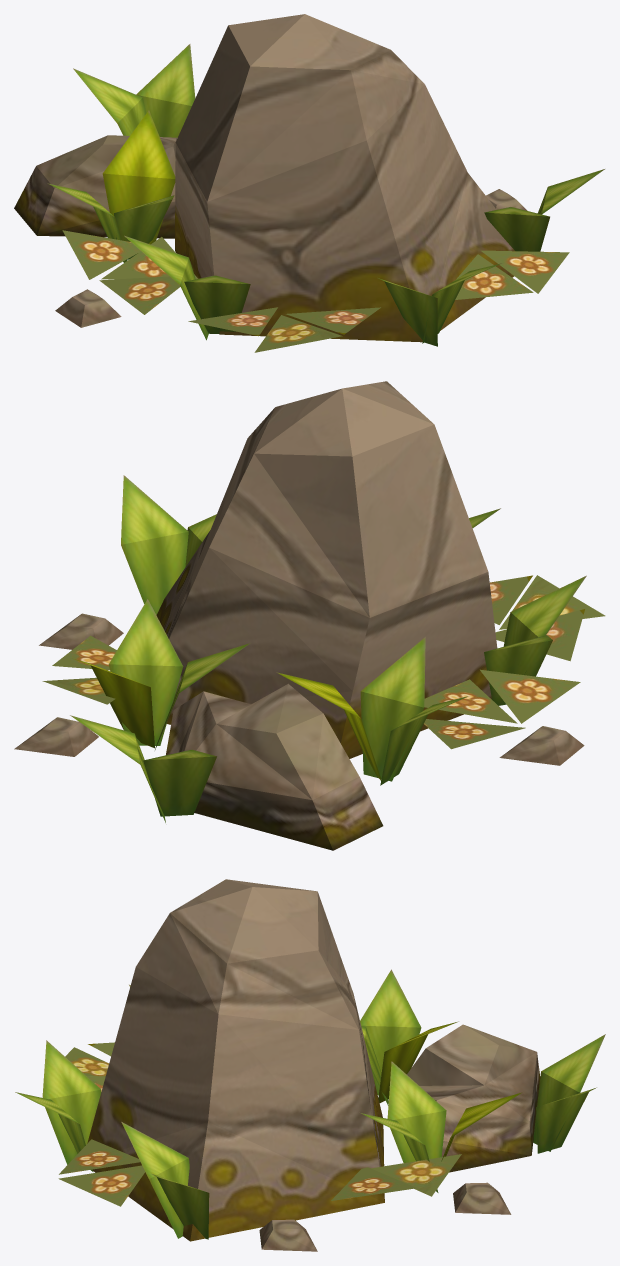
File: batu.fbx
The picture shows the model from 3 angles, top to bottom: view 1: azimuth 30°, elevation 25°; view 2: azimuth 150°, elevation 25°; view 3: azimuth 270°, elevation 25°; orthographic projection. The views are drawn at different scales.
Visible parts, largest first — view 1: TMTG9EH0HHS1VPL2GQT2TLMK6; view 2: TMTG9EH0HHS1VPL2GQT2TLMK6; view 3: TMTG9EH0HHS1VPL2GQT2TLMK6.
Part boxes in pixels (x1,y1,x2,y2): TMTG9EH0HHS1VPL2GQT2TLMK6: [14, 14, 604, 352]; TMTG9EH0HHS1VPL2GQT2TLMK6: [14, 381, 605, 850]; TMTG9EH0HHS1VPL2GQT2TLMK6: [15, 879, 605, 1251].
Size of the model in its own units: 221 by 122 by 250.
Materials: 1 (1 with a texture image).
